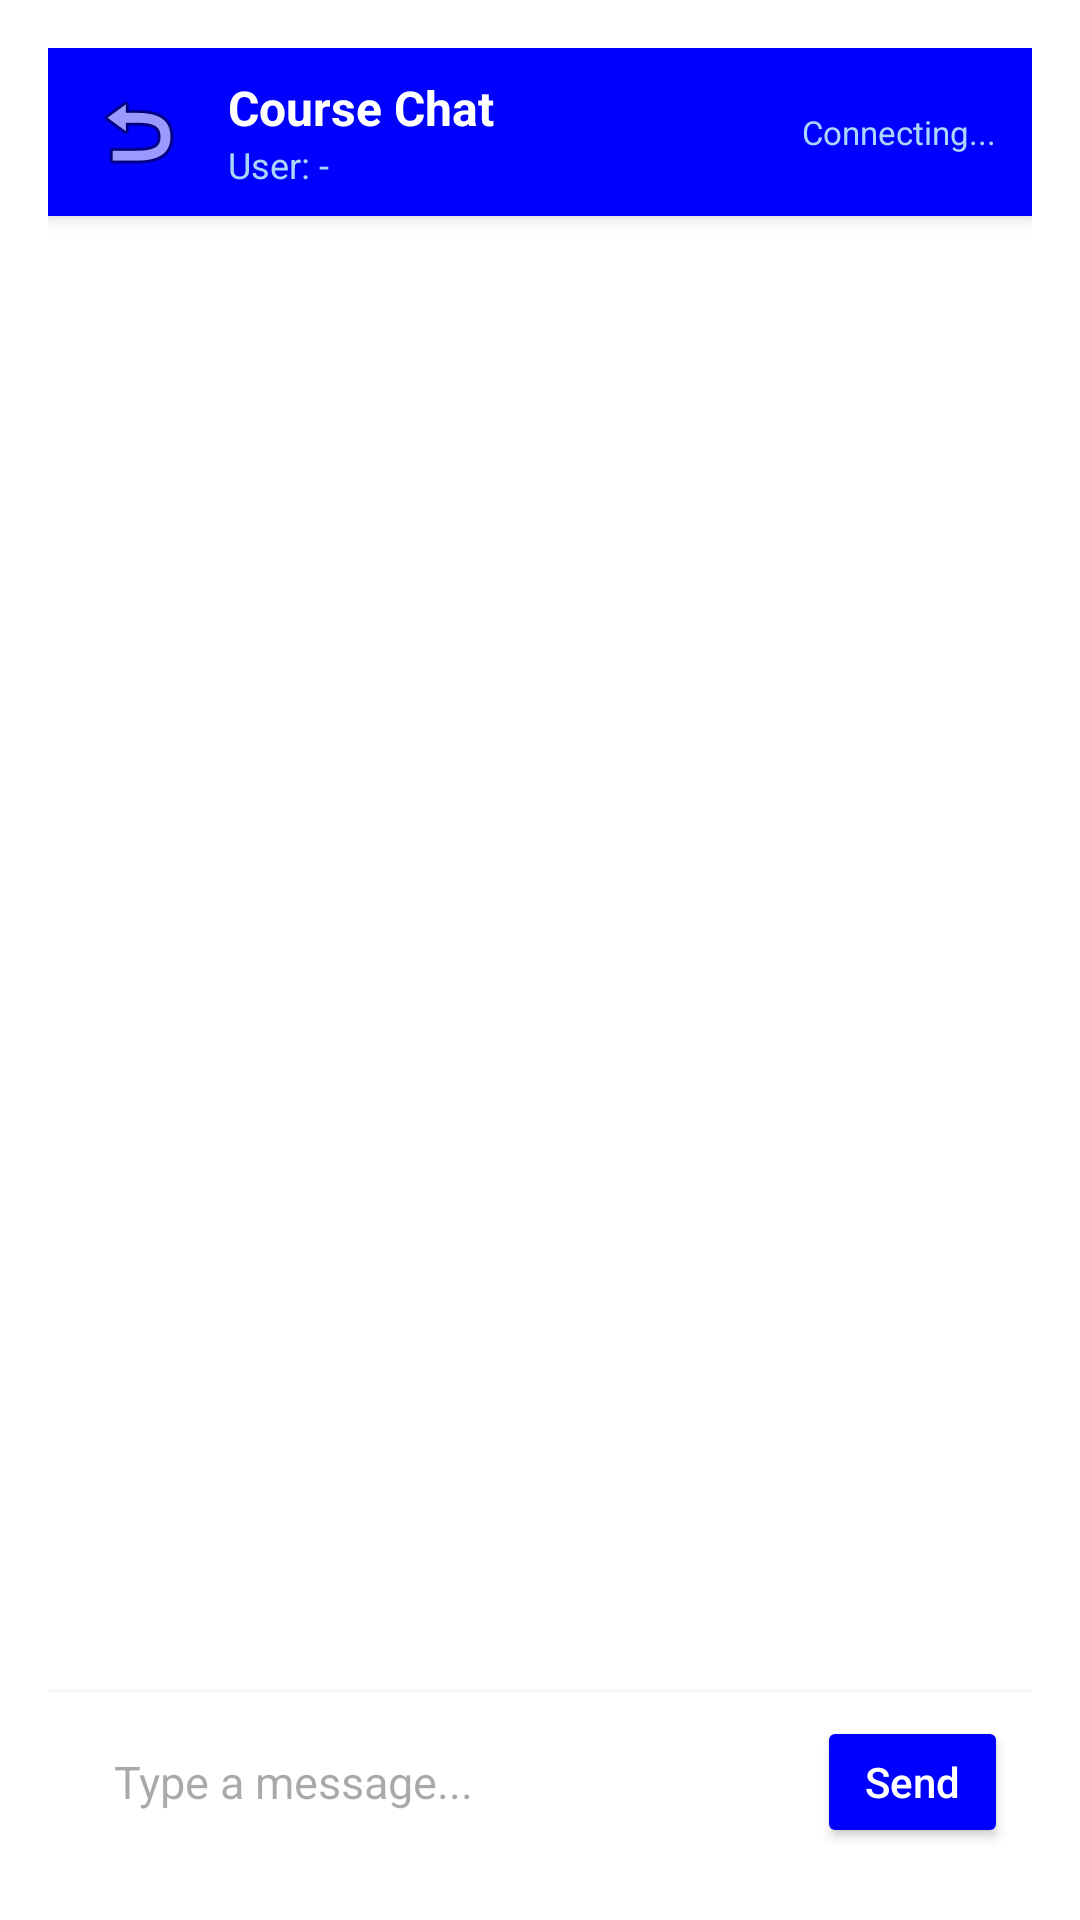

Screen size 1080*1920. Icon name, then its box in pixels as (x1, y1, x2, y2):
Back: (105, 101, 174, 164)
